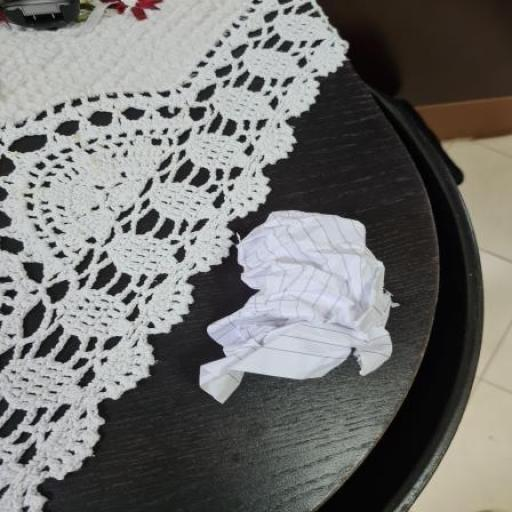paper: (202, 209, 405, 398)
